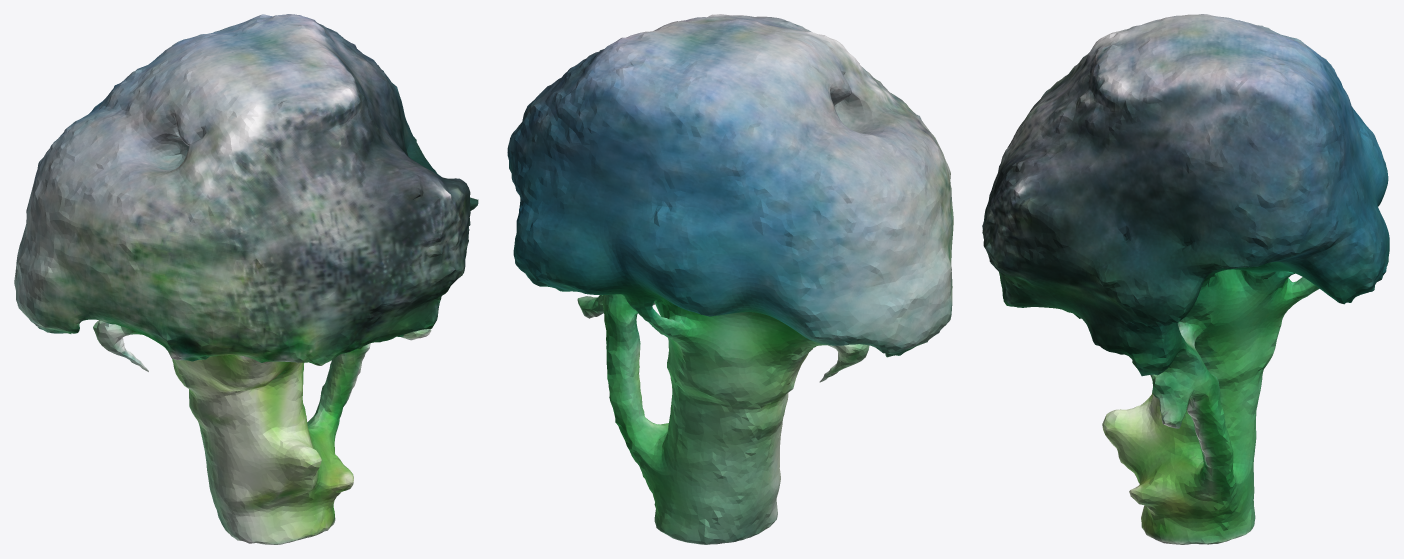
The model's file is broccoli.glb.
3 views of the same model, side by side, from view 1: azimuth 30°, elevation 25°; view 2: azimuth 150°, elevation 25°; view 3: azimuth 270°, elevation 25° (orthographic). The views are drawn at different scales.
Size of the model in its own units: 0.8958 by 1.01 by 0.7782.
Materials: 1 (1 with a texture image).
